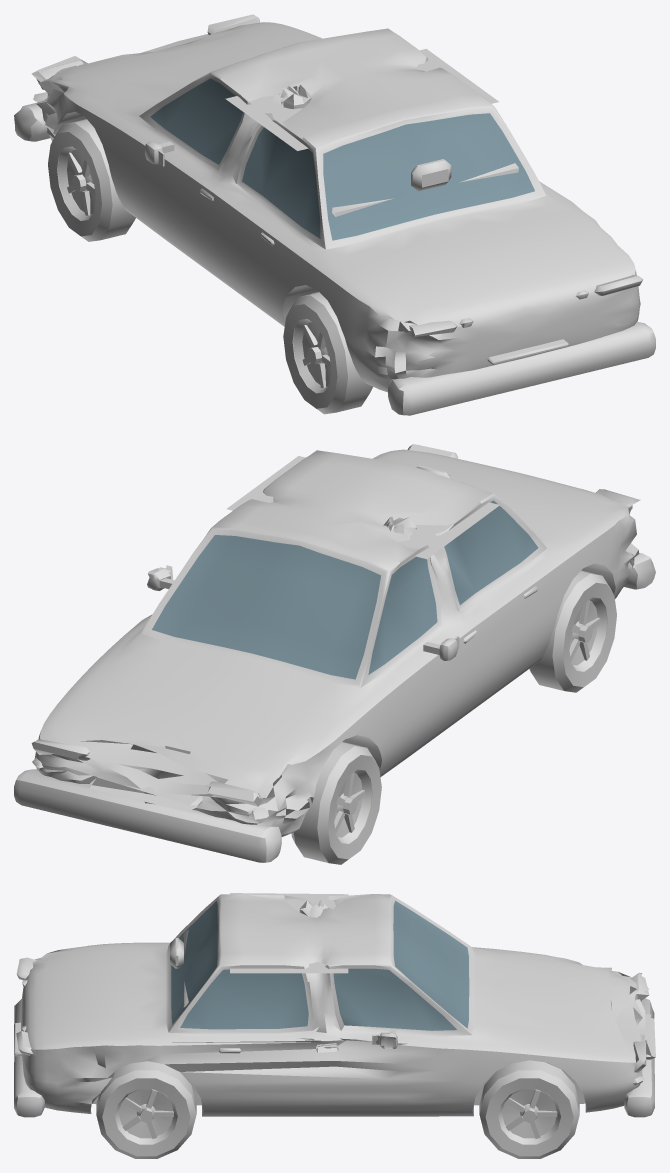
Rendered from car_sedan_dmg2.glb.
The picture shows the model from 3 angles, top to bottom: view 1: azimuth 30°, elevation 25°; view 2: azimuth 150°, elevation 25°; view 3: azimuth 270°, elevation 25°; orthographic projection. The views are drawn at different scales.
Visible parts, largest first — view 1: car_sedan_dmg2; view 2: car_sedan_dmg2; view 3: car_sedan_dmg2.
Part boxes in pixels (x1,y1,x2,y2): car_sedan_dmg2: [14, 14, 655, 415]; car_sedan_dmg2: [14, 444, 655, 864]; car_sedan_dmg2: [14, 893, 655, 1158].
Bounding box in the file's own units: 2.04 × 1.46 × 4.61.
